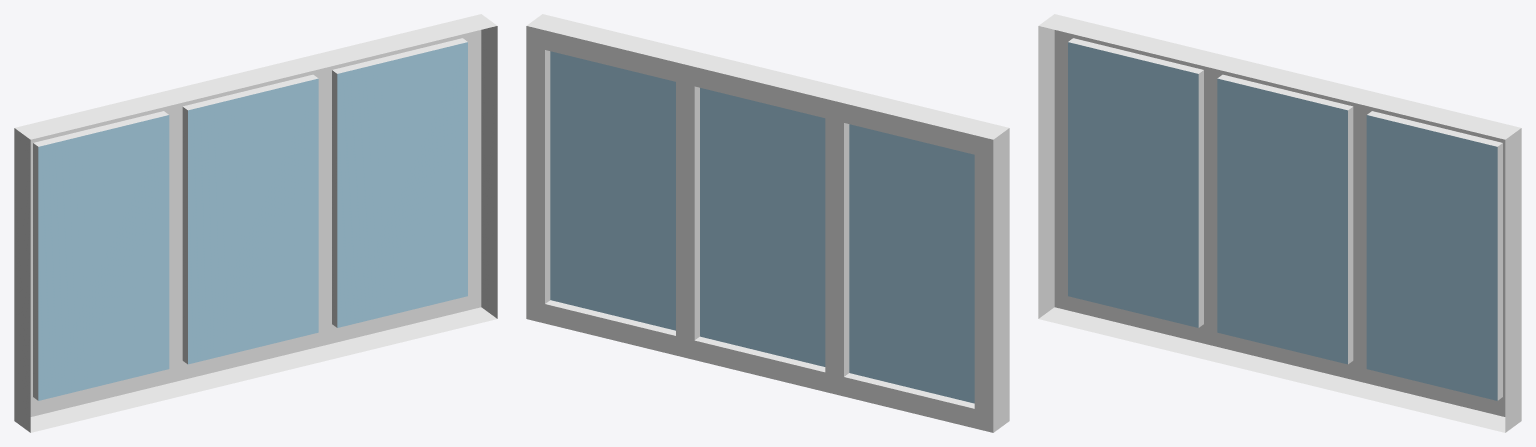
The model's file is ThreeBigWindow.fbx.
The picture shows the model from 3 angles, left to right: view 1: azimuth 30°, elevation 25°; view 2: azimuth 150°, elevation 25°; view 3: azimuth 330°, elevation 25°; orthographic projection.
Visible parts, largest first — view 1: ThreeBigWindow_LOD0; view 2: ThreeBigWindow_LOD0; view 3: ThreeBigWindow_LOD0.
Part boxes in pixels (box(x1,y1,x2,y2)): ThreeBigWindow_LOD0: box(14, 14, 497, 432); ThreeBigWindow_LOD0: box(526, 14, 1009, 432); ThreeBigWindow_LOD0: box(1038, 14, 1521, 432).
Size of what is drawn, in the model's own units: 500 by 300 by 30.
